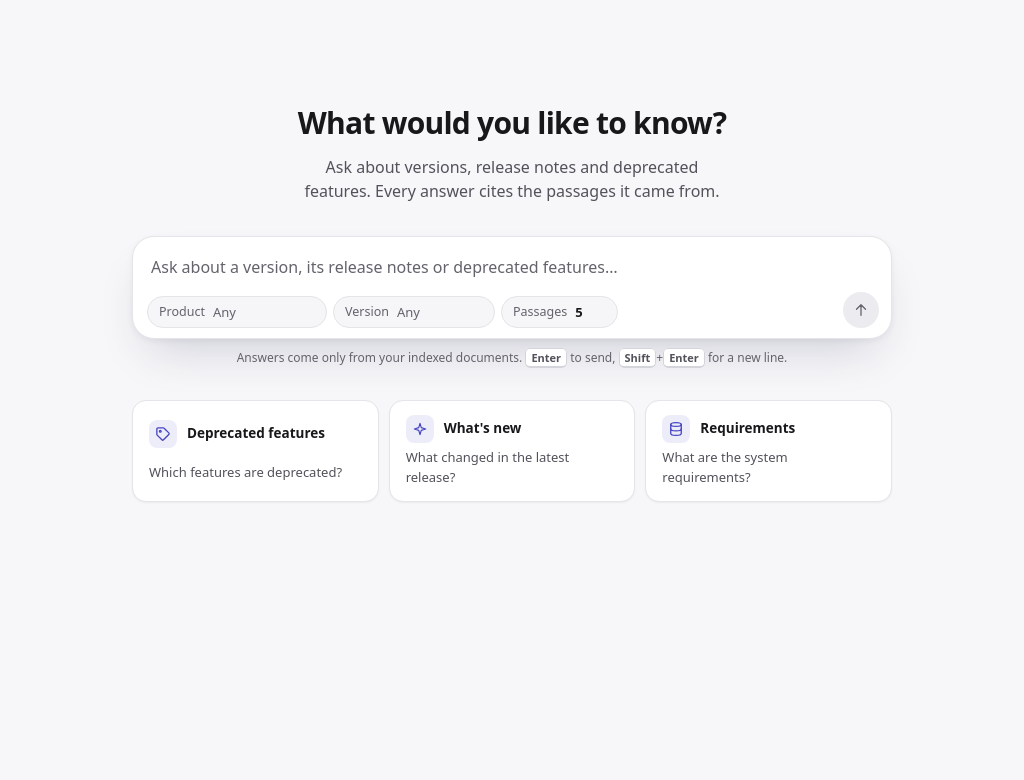
ChatPage: asking › sends the question with trimmed filters and k, and shows the answer with model and time
The image size is (1024, 780).
Type " acme-dms " into the field named "Product (optional)". click: (264,312)
box: 207,298 -> 322,326
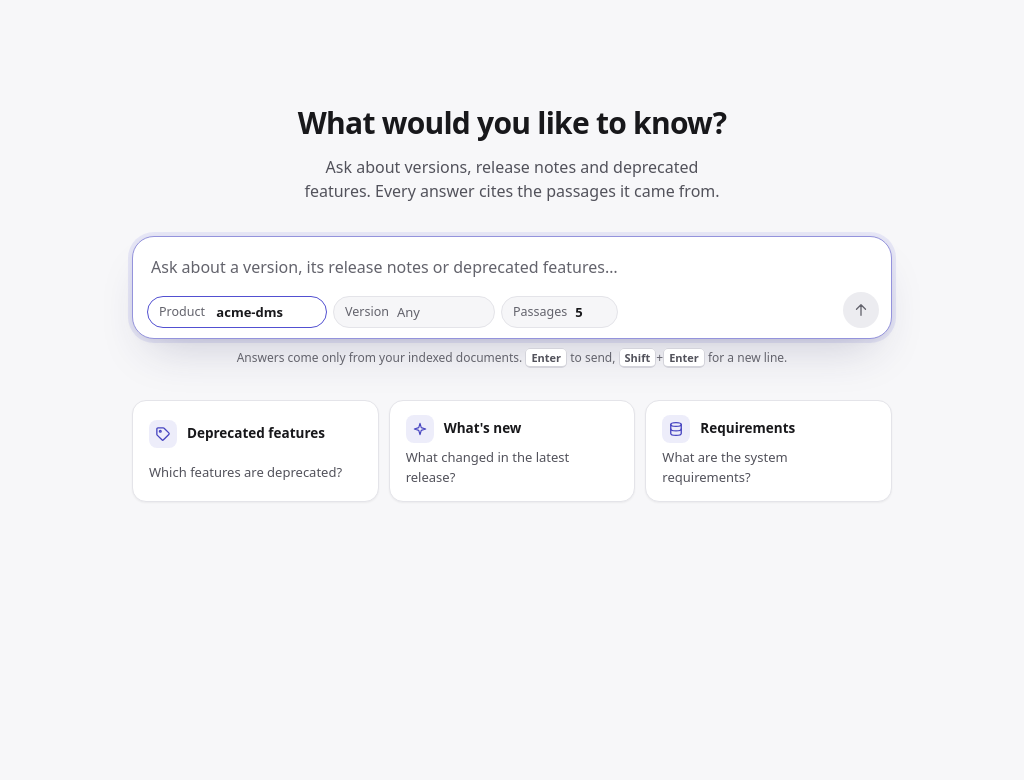
Type "1.0" into the field named "Version (optional)". click: (440,312)
box: 391,298 -> 490,326
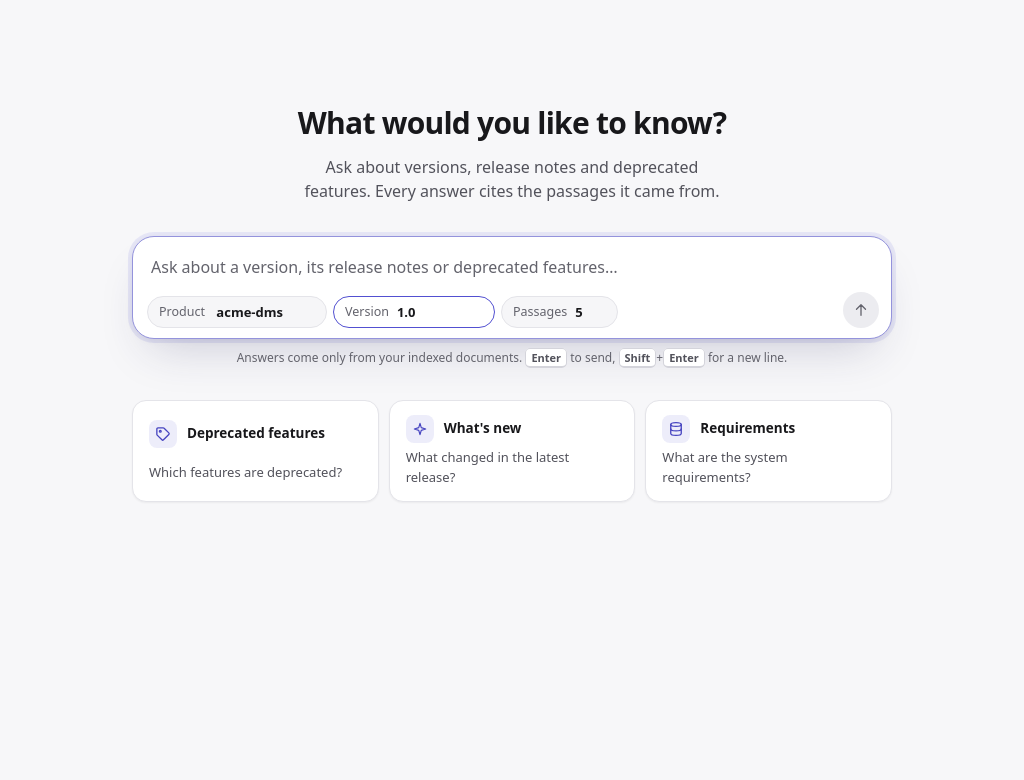
Replace the text in the number field named "Top-k" with "3". click: (591,312)
box: 569,298 -> 613,326
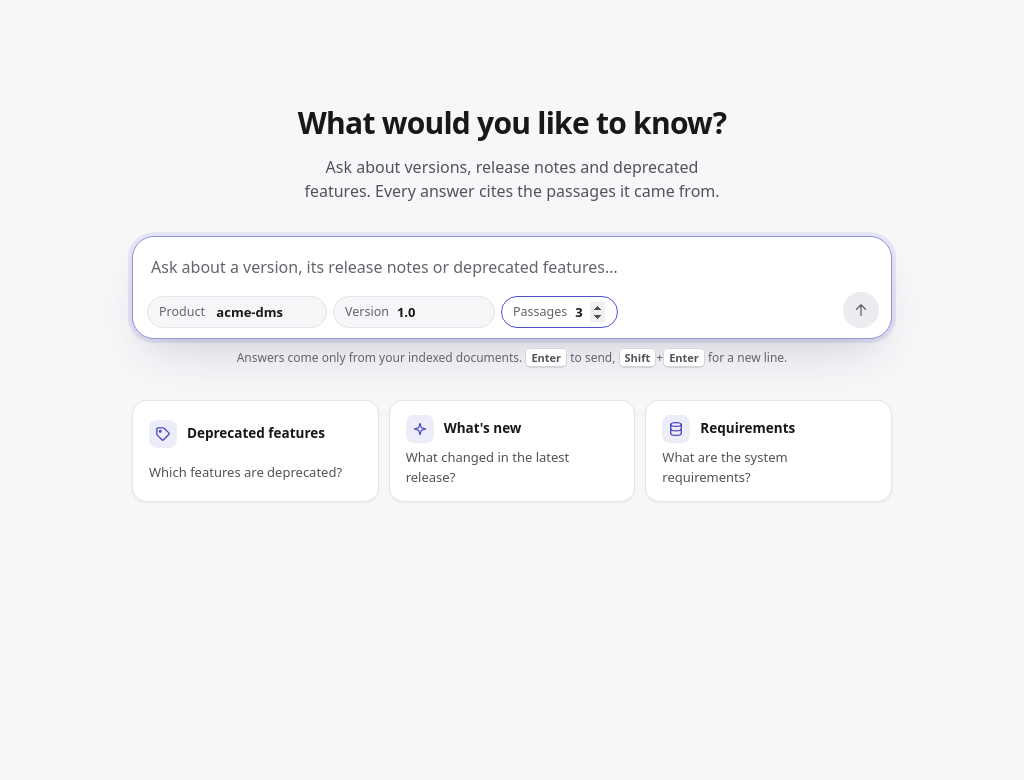
Type "  What is deprecated?  " into the text box named "Question". click: (513,268)
box: 147,251 -> 879,284
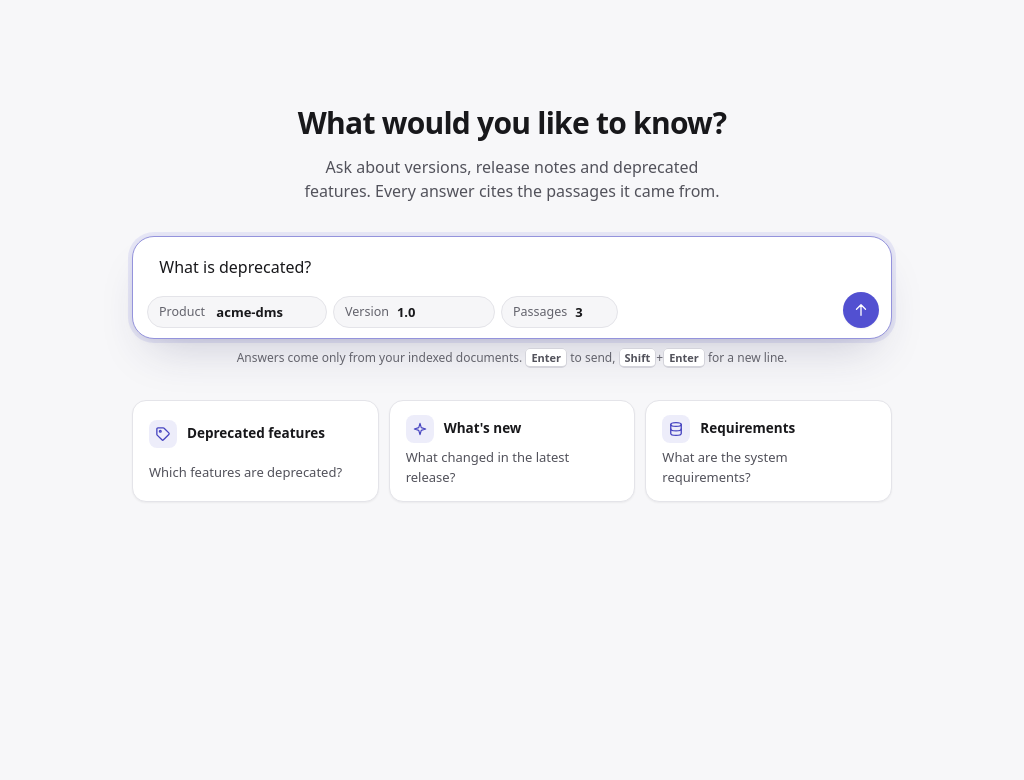
Click the button named "Ask". click: (861,310)
box: 843,292 -> 879,328
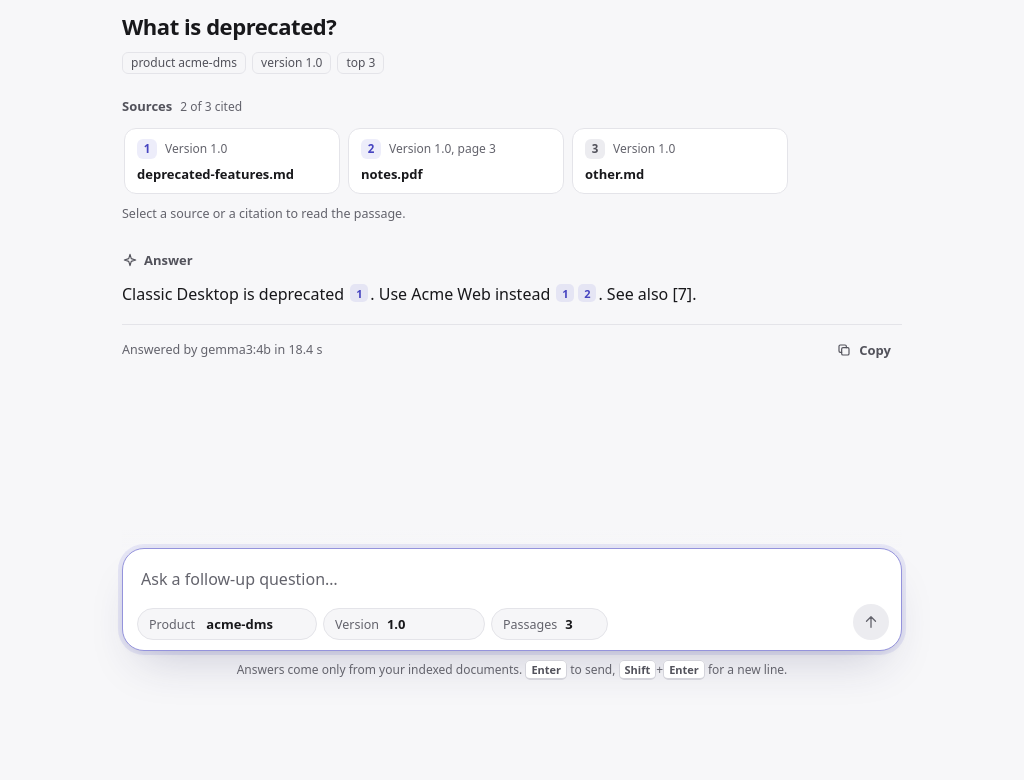
Check: the text ". See also [7]." is shown, box 598,283 -> 696,305
Check: the text "Answered by gemma3:4b in 18.4 s" is shown, box 122,340 -> 322,360
Check: the text box labelled "question" is empty, box 137,563 -> 889,596
